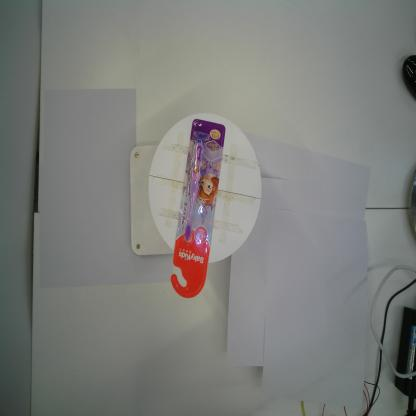Personal Hygiene: (170, 116, 227, 298)
